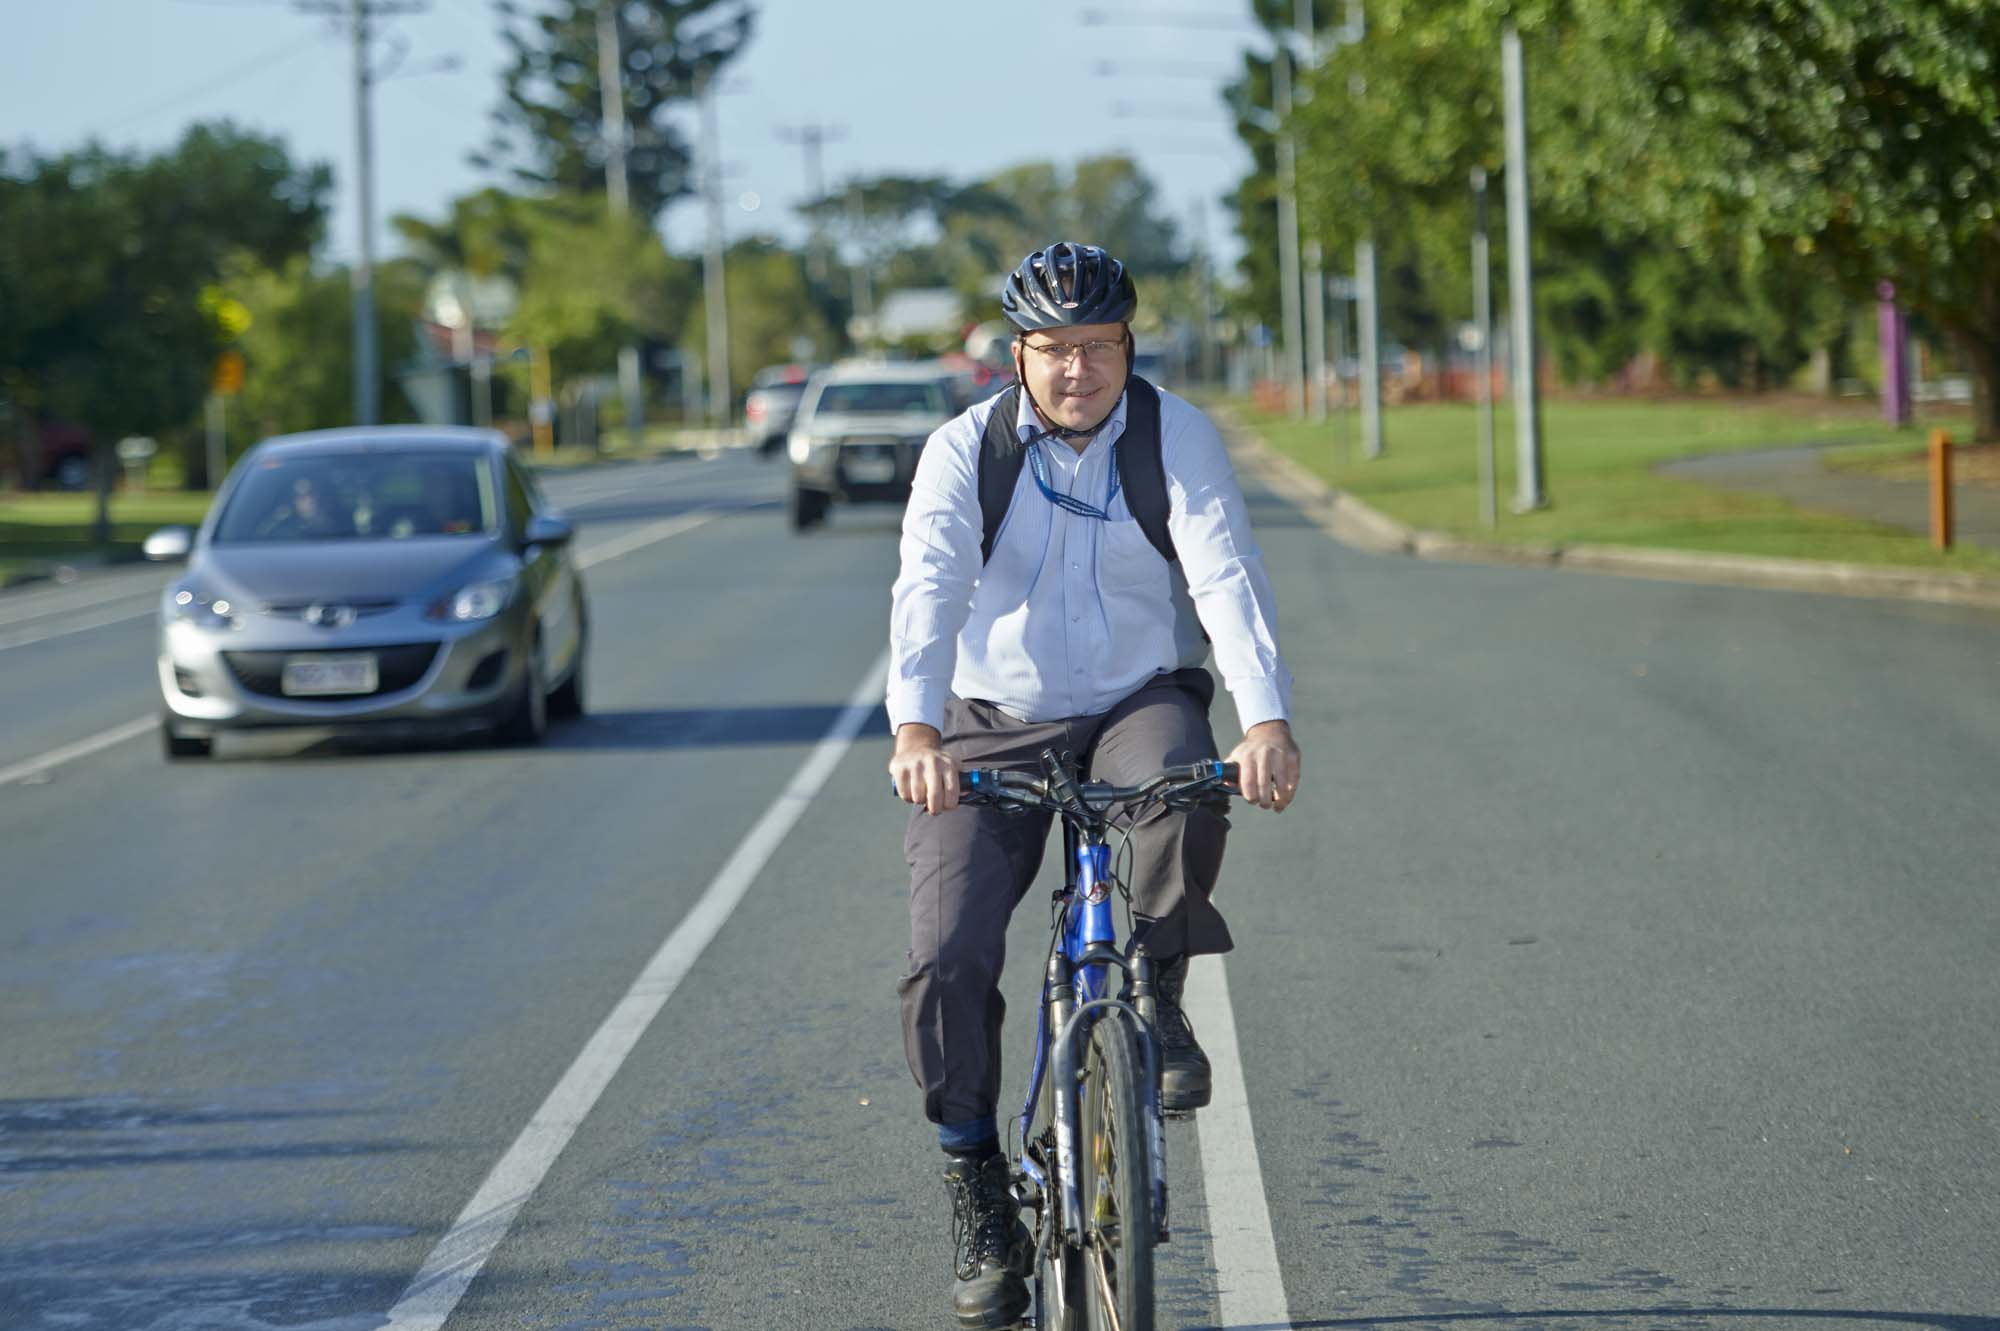commuter: (875, 230, 1289, 1331)
